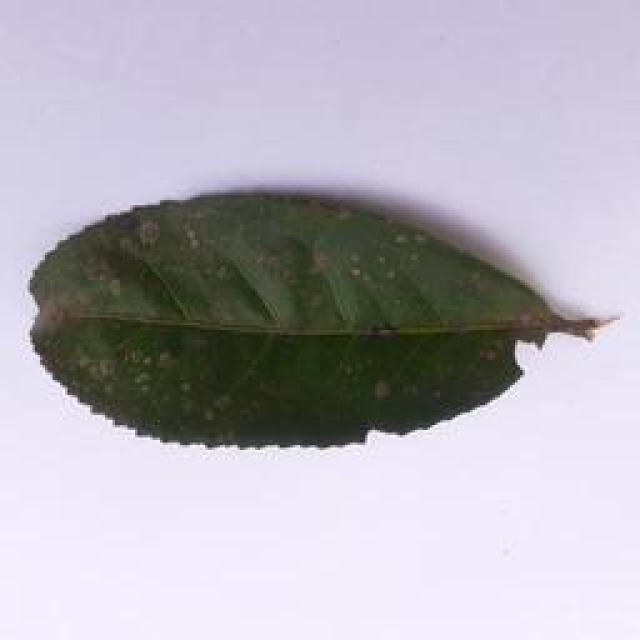Algal Leaf Spot: (15, 181, 591, 455)
